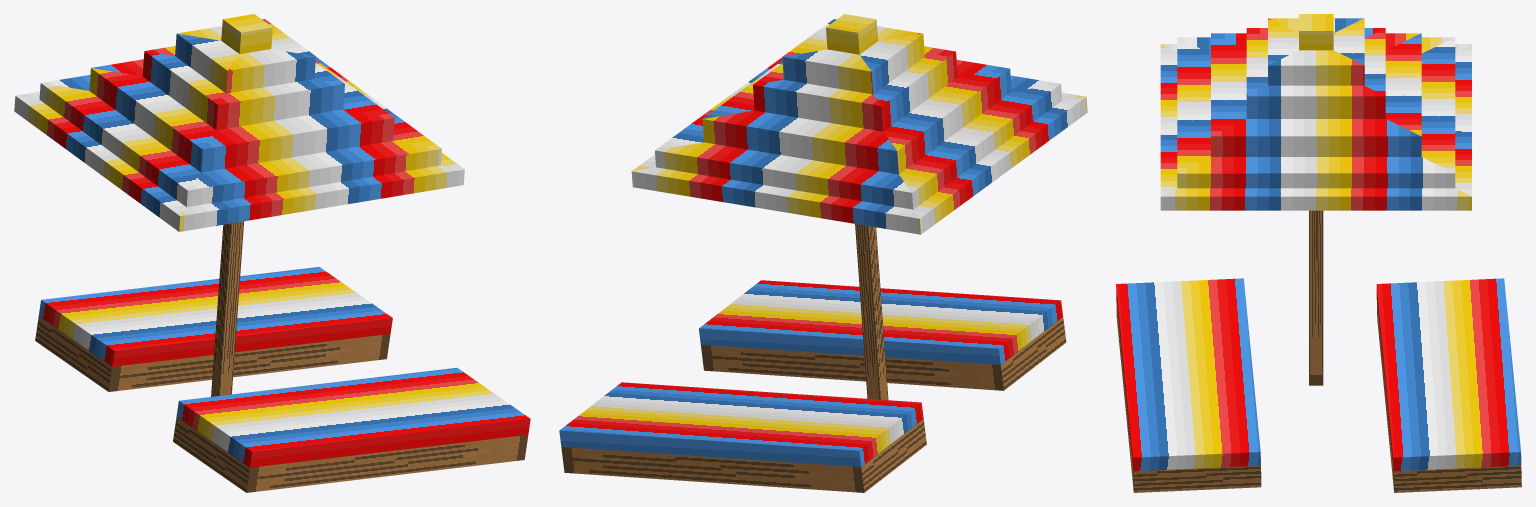
File: BGN_BEACH BED FULL 2.fbx
3 renders of one model, left to right at view 1: azimuth 30°, elevation 25°; view 2: azimuth 150°, elevation 25°; view 3: azimuth 270°, elevation 25°, orthographic. The views are drawn at different scales.
Parts seen in each view (by area): view 1: BGN_BEACH_BED_FULL_2; view 2: BGN_BEACH_BED_FULL_2; view 3: BGN_BEACH_BED_FULL_2.
Boxes of the visible parts, x1,y1,x2,y2 form: BGN_BEACH_BED_FULL_2: [14, 14, 530, 492]; BGN_BEACH_BED_FULL_2: [559, 14, 1087, 492]; BGN_BEACH_BED_FULL_2: [1116, 14, 1521, 492].
Size of the model in its own units: 263 by 307 by 291.
Materials: 2 (2 with a texture image).
